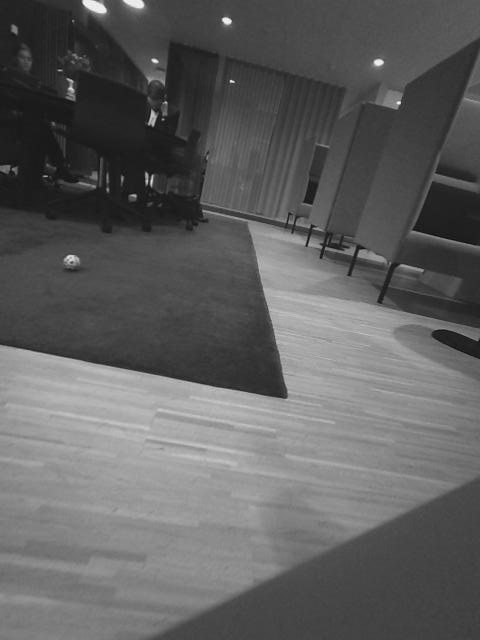dogtoy: (56, 249, 88, 279)
